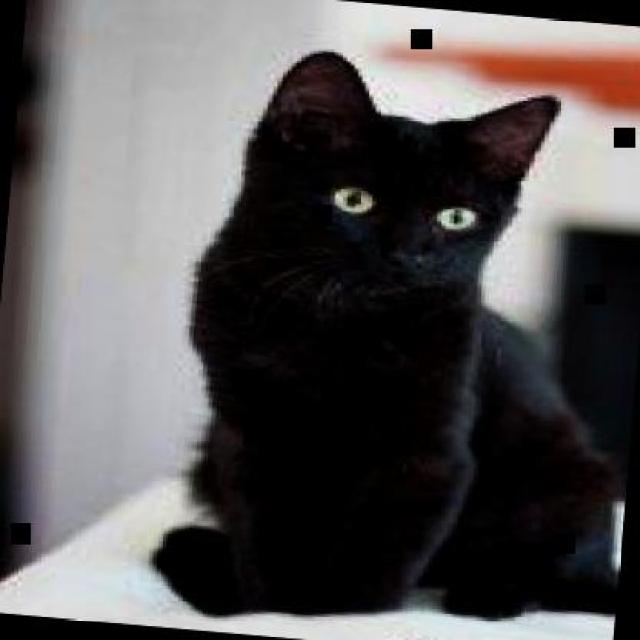cat: (147, 39, 638, 638)
